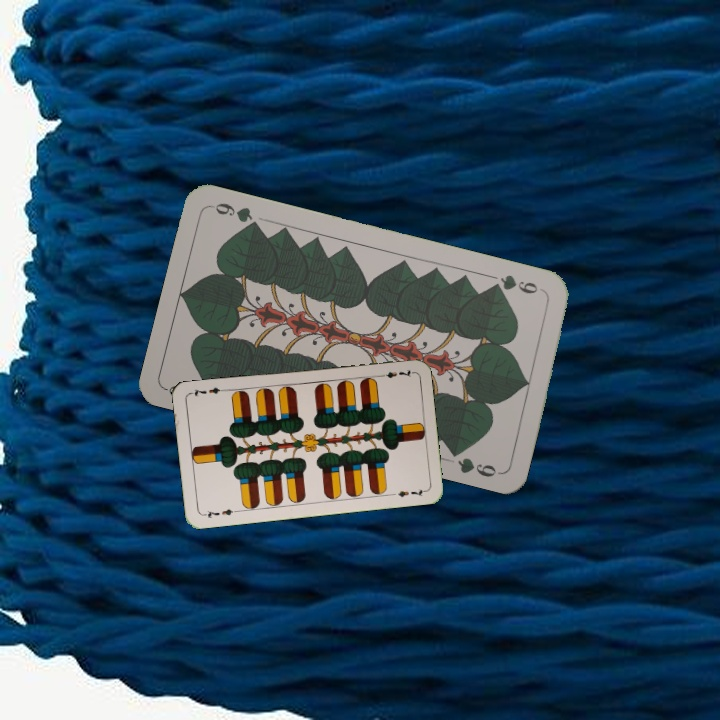E7: (374, 365, 415, 381), (200, 505, 240, 521)
G9: (487, 271, 547, 297)
